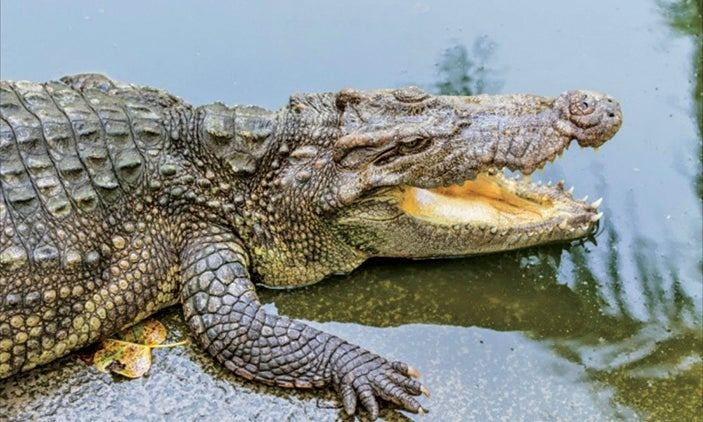crocodile: (0, 69, 627, 422)
